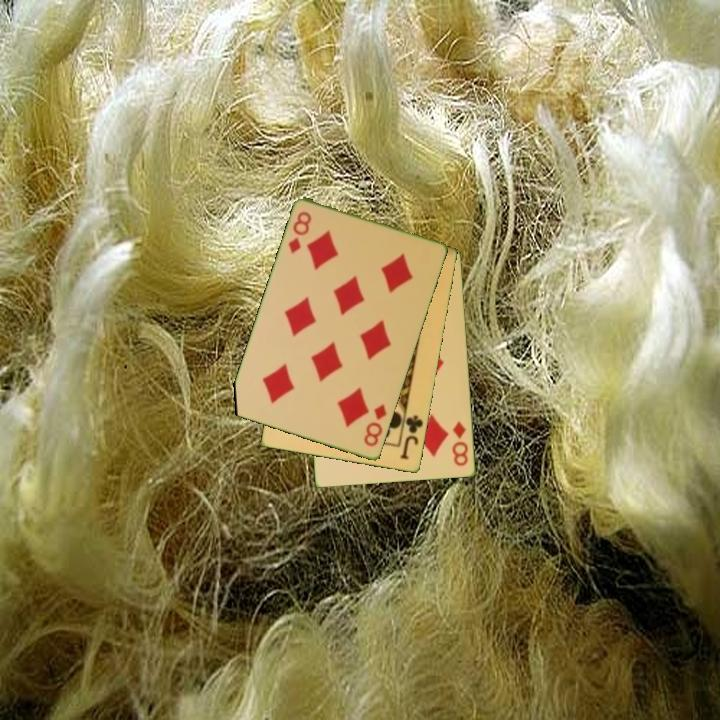8d: (360, 401, 390, 450), (285, 208, 315, 256), (449, 418, 471, 469)
Jc: (397, 408, 426, 463)
